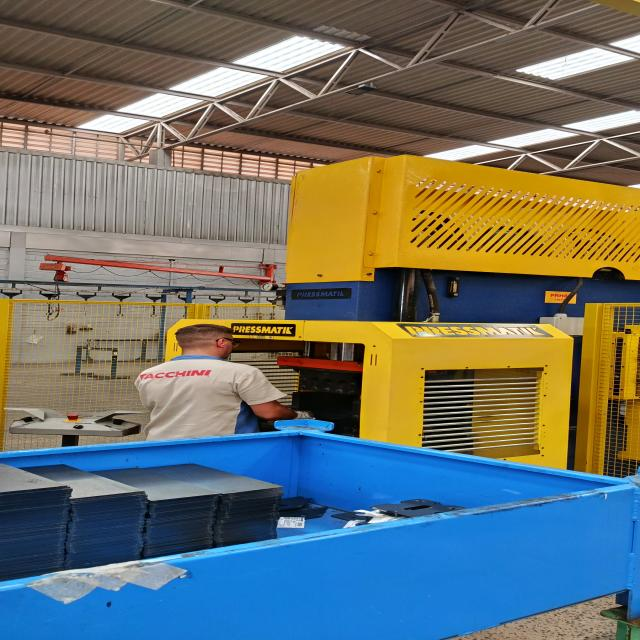oculos-epi: (216, 338, 241, 347)
